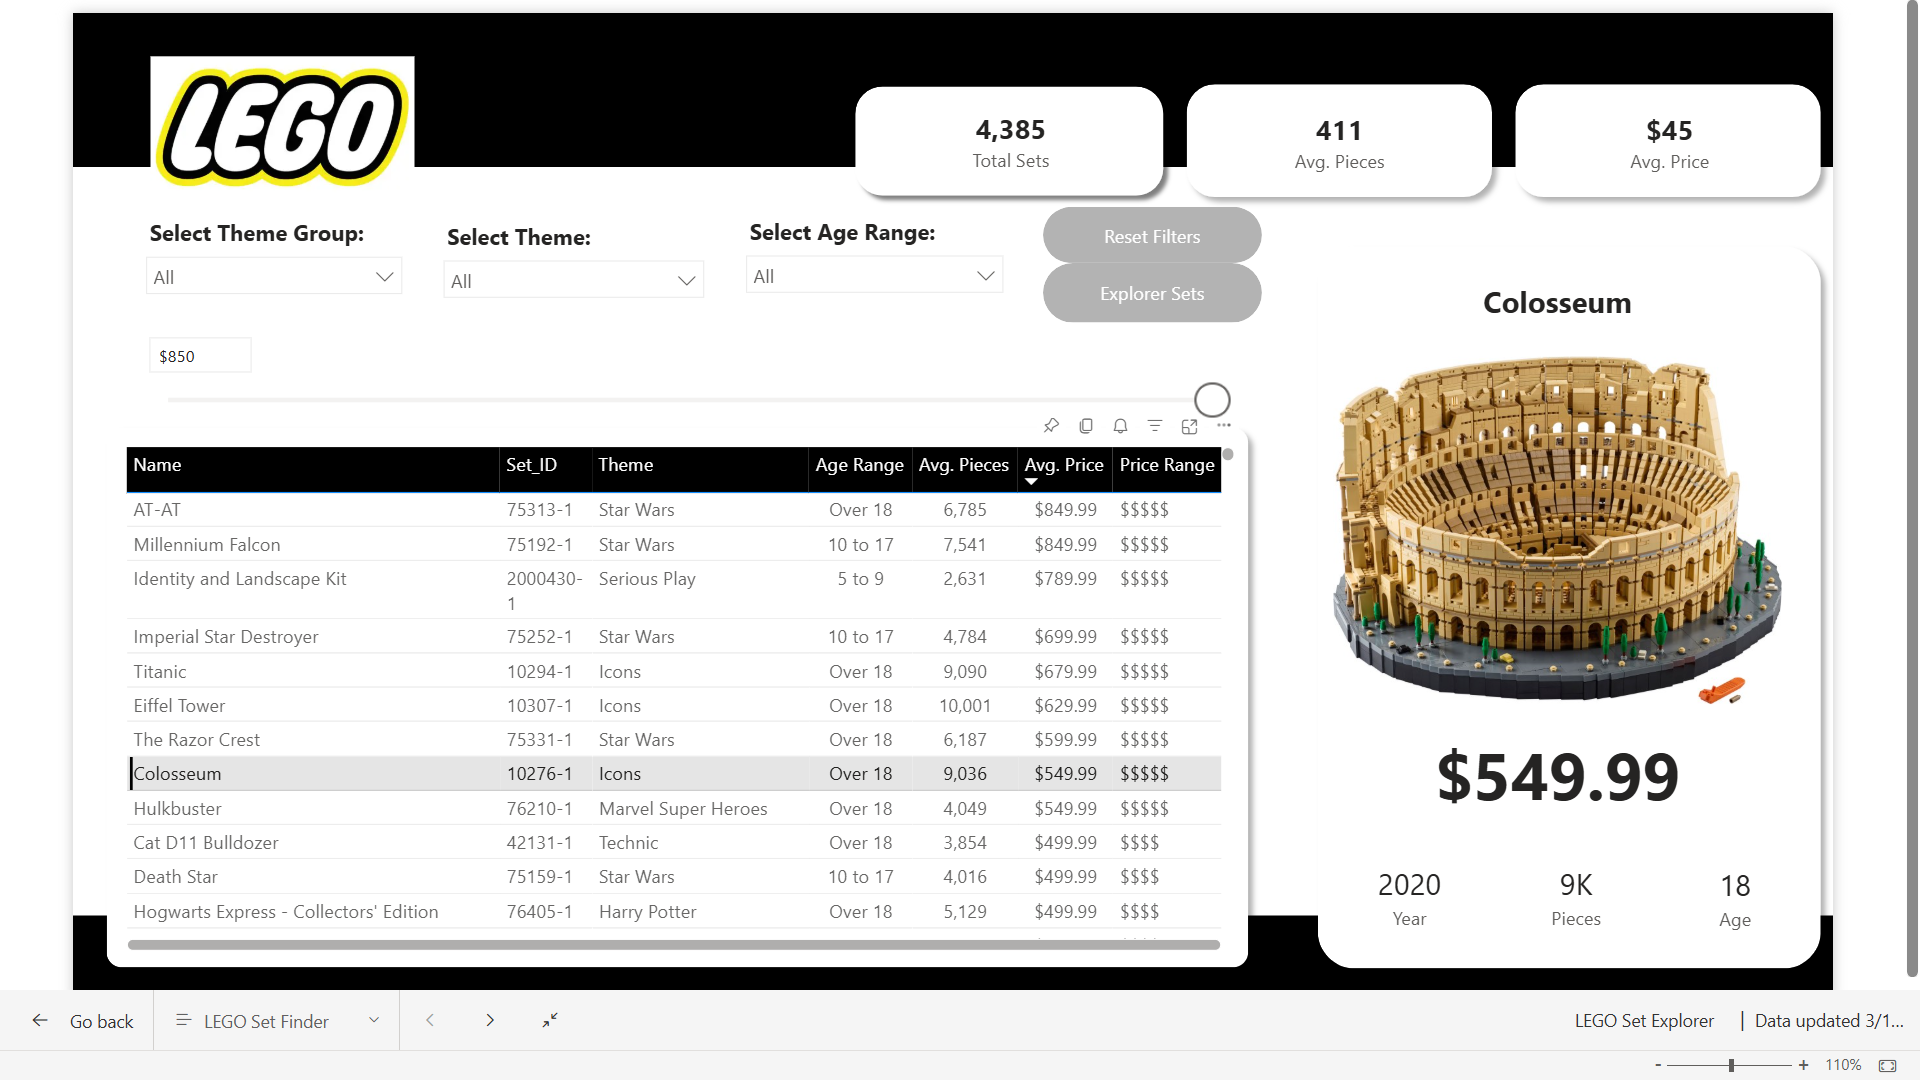

This screenshot's page, from the dashboard's own definition file:
{"tool":"powerbi","page":{"name":"LEGO Set Finder","canvas":[1280,720],"ordinal":0},"visuals":[{"type":"shape","box":[0,0,1280,112.2],"z":0},{"type":"shape","box":[0,656,1280,64],"z":1000},{"type":"shape","box":[561,45.2,240.1,95.3],"z":2000},{"type":"shape","box":[801.1,42.8,240.1,100.1],"z":3000},{"type":"shape","box":[1040,42.8,240.1,100.1],"z":4000},{"type":"shape","box":[15.7,293.2,848.1,410.2],"z":5000},{"type":"shape","box":[896,160,384,528],"z":6000},{"type":"image","box":[56.7,29,191.8,112.2],"z":23500},{"type":"cardVisual","fields":{"Data":["Measure Table.Total Sets"]},"box":[577.9,60.9,208.7,63.9],"z":24000},{"type":"cardVisual","fields":{"Data":["Measure Table.Avg. Pieces"]},"box":[817.4,61.5,208.7,63.9],"z":24500},{"type":"cardVisual","fields":{"Data":["Measure Table.Avg. Price"]},"box":[1056.8,61.5,208.7,63.9],"z":25000},{"type":"slicer","fields":{"Values":["lego_sets.themeGroup"]},"box":[42.8,143.5,206.7,77],"z":25500},{"type":"slicer","fields":{"Values":["lego_sets.theme"]},"box":[259.4,146,209.9,79.6],"z":26000},{"type":"slicer","fields":{"Values":["lego_sets.Age Range"]},"box":[479,142.4,207.5,83.2],"z":26500},{"type":"tableEx","fields":{"Values":["lego_sets.name","lego_sets.set_id","lego_sets.theme","lego_sets.Age Range","Measure Table.Avg. Pieces","Measure Table.Avg. Price","lego_sets.Price Range"]},"box":[32.9,311.5,806.9,376],"z":27000},{"type":"cardVisual","fields":{"Data":["Measure Table.Selected Set"]},"box":[912,176,336,64],"z":27500},{"type":"simpleImageEBC4593F96F1425FB3D84C5BF02B5075","fields":{"imageURL":["lego_sets.imageURL"]},"box":[912,240,336,272],"z":28000},{"type":"cardVisual","fields":{"Data":["Measure Table.Selected Price"]},"box":[912,512,336,80],"z":28500},{"type":"cardVisual","fields":{"Data":["Measure Table.Selected Year"]},"box":[912,592,112,80],"z":29000},{"type":"cardVisual","fields":{"Data":["Measure Table.Selected Pieces"]},"box":[1032,592,112,80],"z":29500},{"type":"cardVisual","fields":{"Data":["Measure Table.Selected Age"]},"box":[1152,592,112,80],"z":30000},{"type":"slicer","fields":{"Values":["Max Price.Max Price"]},"box":[42.8,225.2,806.8,68.4],"z":30500},{"type":"actionButton","box":[705.8,141.2,159.3,41],"z":31000},{"type":"actionButton","box":[705.8,182.2,159.3,43.4],"z":31500}]}

Visuals, with their boxes on the page's 1280x720 design canvas (x1, y1, x2, y2). These are canvas units, not pixel positions in the 1920x1080 screenshot, which may show the page scaled, cropped or inside an application window:
shape: bbox=(0, 0, 1280, 112)
shape: bbox=(0, 656, 1280, 720)
shape: bbox=(561, 45, 801, 140)
shape: bbox=(801, 43, 1041, 143)
shape: bbox=(1040, 43, 1280, 143)
shape: bbox=(16, 293, 864, 703)
shape: bbox=(896, 160, 1280, 688)
image: bbox=(57, 29, 248, 141)
cardVisual - Measure Table.Total Sets: bbox=(578, 61, 787, 125)
cardVisual - Measure Table.Avg. Pieces: bbox=(817, 62, 1026, 125)
cardVisual - Measure Table.Avg. Price: bbox=(1057, 62, 1266, 125)
slicer - lego_sets.themeGroup: bbox=(43, 144, 250, 220)
slicer - lego_sets.theme: bbox=(259, 146, 469, 226)
slicer - lego_sets.Age Range: bbox=(479, 142, 686, 226)
tableEx - lego_sets.name x lego_sets.set_id: bbox=(33, 312, 840, 688)
cardVisual - Measure Table.Selected Set: bbox=(912, 176, 1248, 240)
simpleImageEBC4593F96F1425FB3D84C5BF02B5075 - lego_sets.imageURL: bbox=(912, 240, 1248, 512)
cardVisual - Measure Table.Selected Price: bbox=(912, 512, 1248, 592)
cardVisual - Measure Table.Selected Year: bbox=(912, 592, 1024, 672)
cardVisual - Measure Table.Selected Pieces: bbox=(1032, 592, 1144, 672)
cardVisual - Measure Table.Selected Age: bbox=(1152, 592, 1264, 672)
slicer - Max Price.Max Price: bbox=(43, 225, 850, 294)
actionButton: bbox=(706, 141, 865, 182)
actionButton: bbox=(706, 182, 865, 226)
